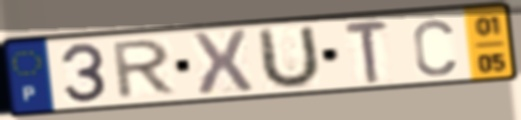3: (58, 40, 109, 106)
C: (410, 17, 459, 79)
R: (110, 36, 179, 102)
T: (341, 19, 393, 86)
U: (257, 23, 323, 93)
X: (188, 28, 257, 99)
